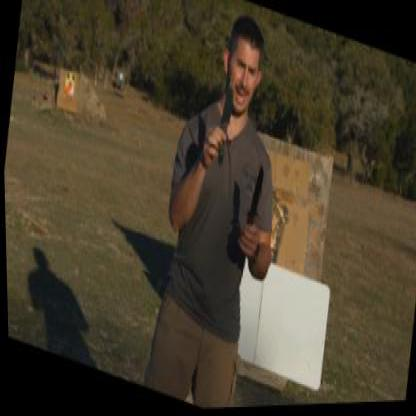knife: (202, 68, 240, 174), (233, 154, 266, 258)
